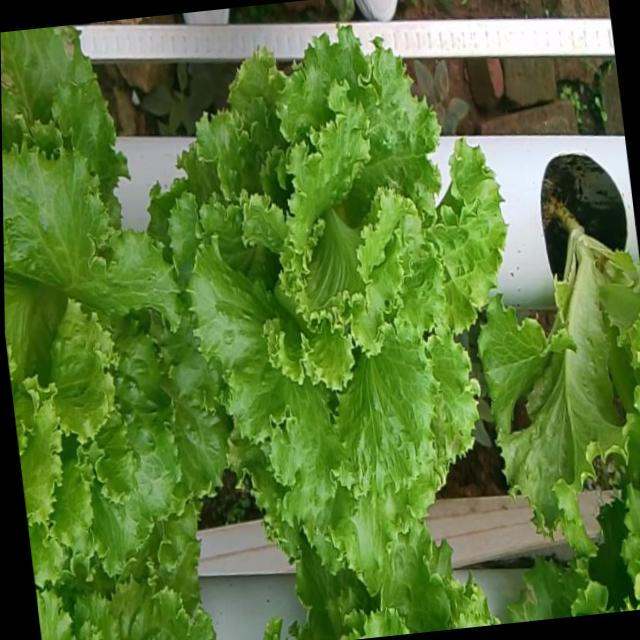Mature: (156, 17, 494, 559), (2, 128, 217, 564)
